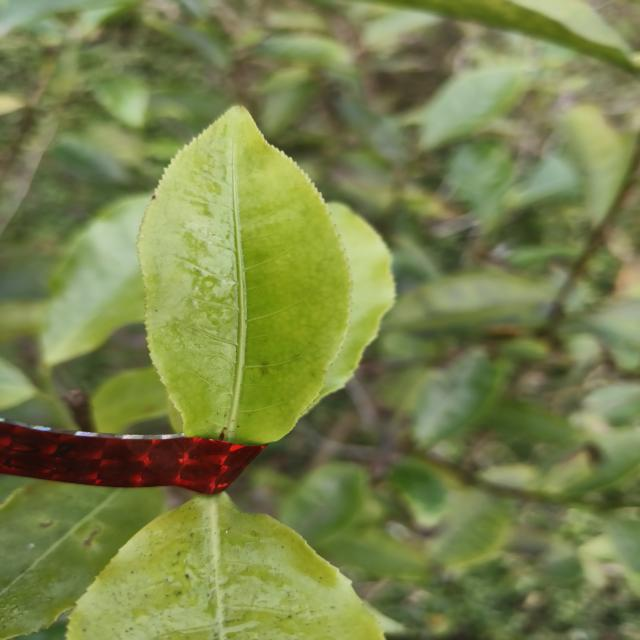Leaf: (138, 107, 351, 444), (67, 493, 384, 640), (0, 481, 164, 640), (40, 192, 151, 367), (388, 272, 551, 328), (418, 65, 526, 149), (414, 349, 506, 446), (560, 105, 632, 223), (279, 462, 366, 547), (436, 491, 510, 566), (321, 528, 426, 579), (91, 366, 168, 433), (389, 458, 446, 528), (54, 134, 128, 183), (260, 34, 351, 67), (94, 75, 149, 127)
